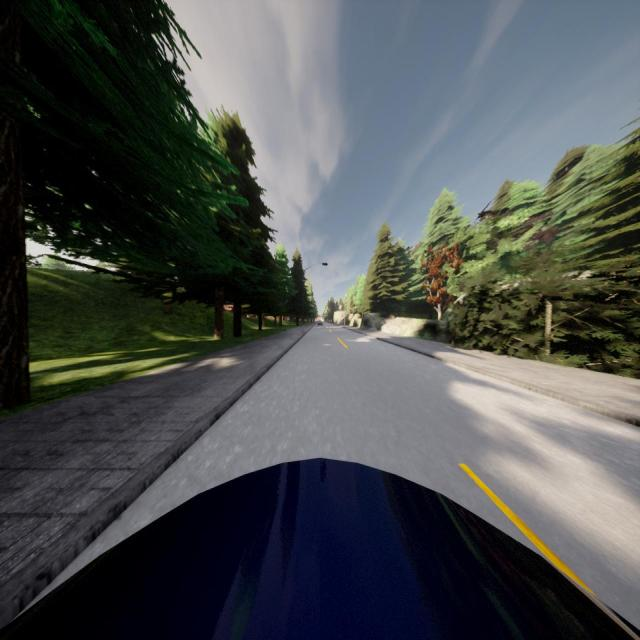Vehicle: (0, 455, 640, 640), (318, 320, 322, 326)
